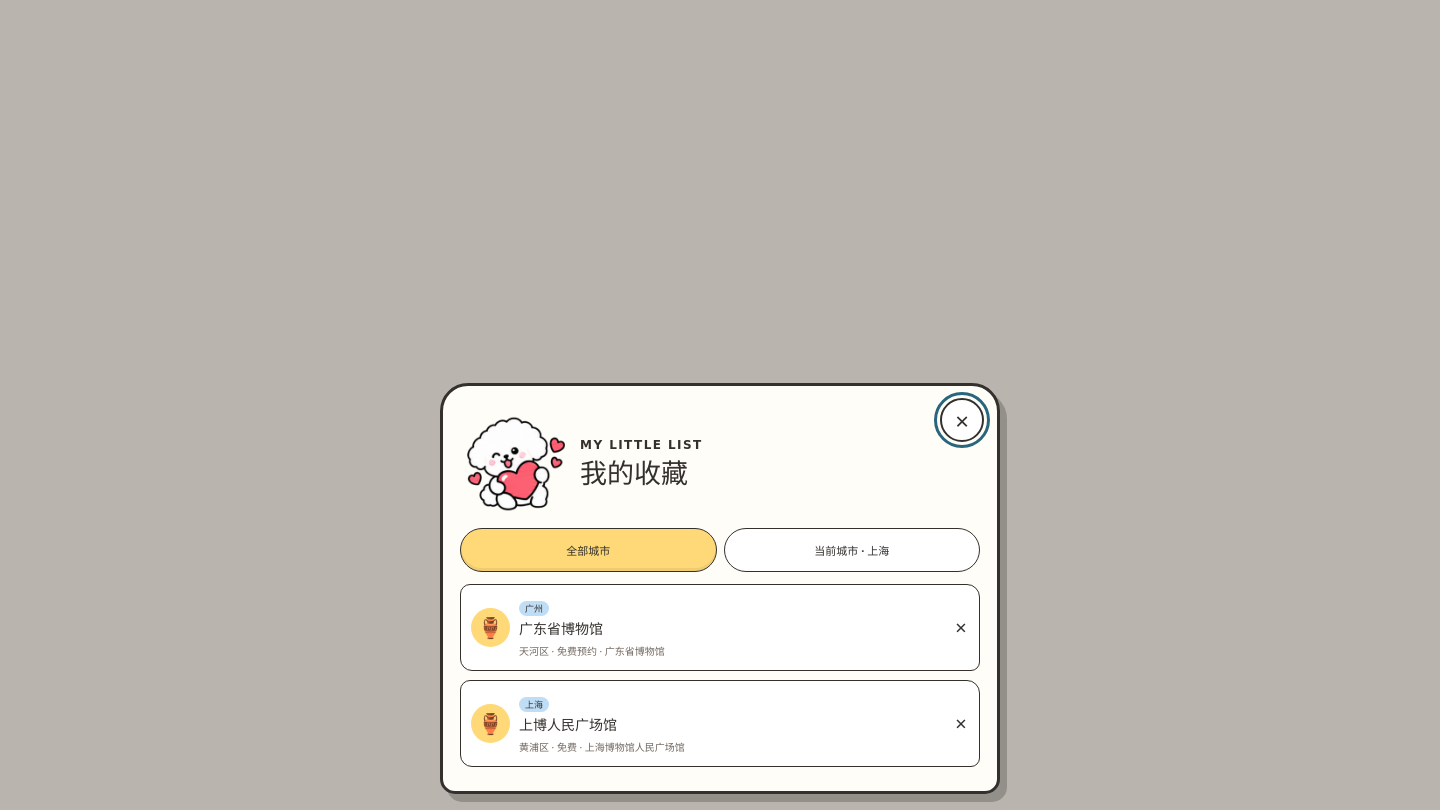
it: defaults to all cities, labels each city, and filters to the current city
The width and height of the screenshot is (1440, 810).
Check: the text "广东省博物馆" is shown, box [519,619,603,638]
Check: the text "上博人民广场馆" is shown, box [519,715,617,734]
Click the button "当前城市 · 上海" at x=852, y=550, box [724,528,980,572]
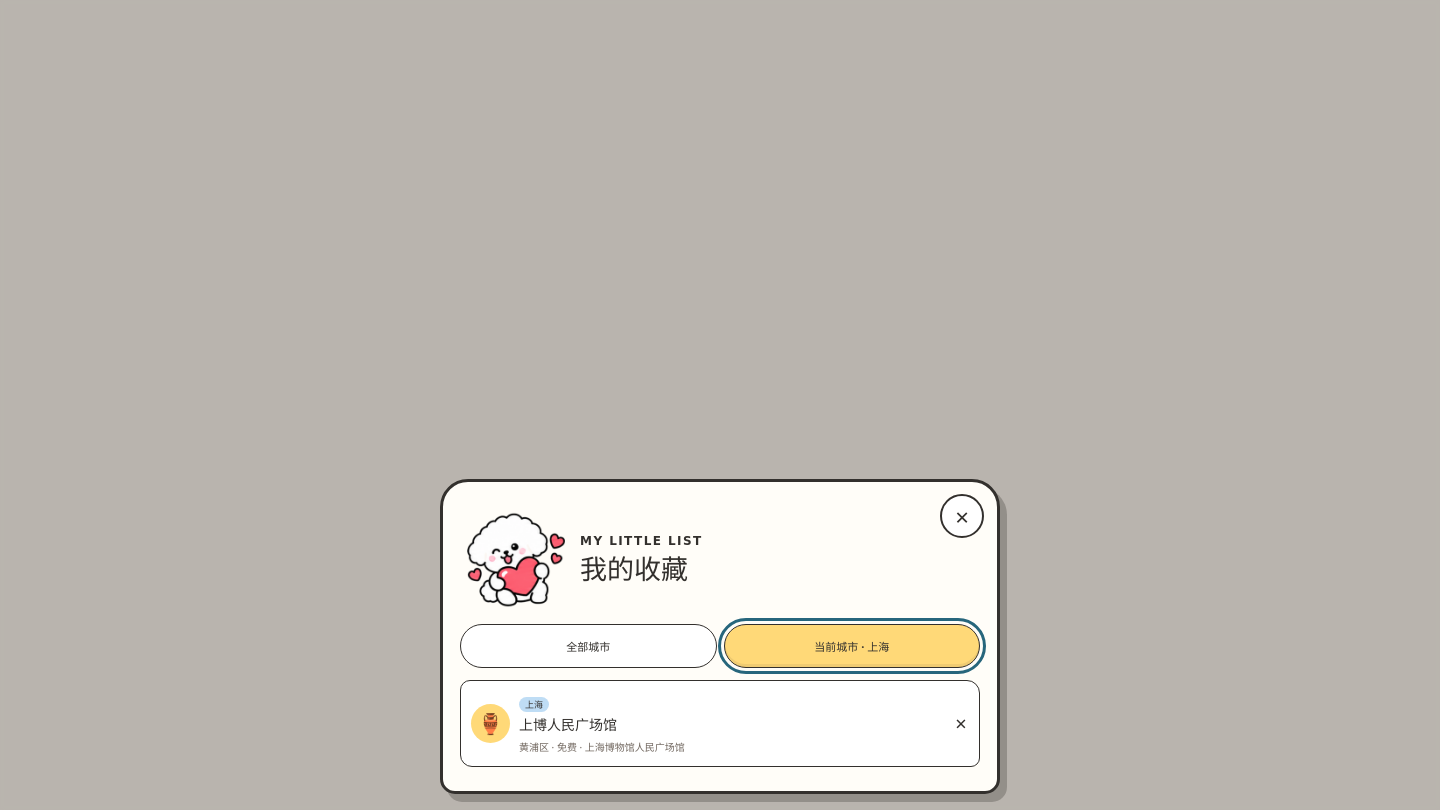
Check: the text "上博人民广场馆" is shown, box [519,715,617,734]
Check: the text "广东省博物馆" is gone
